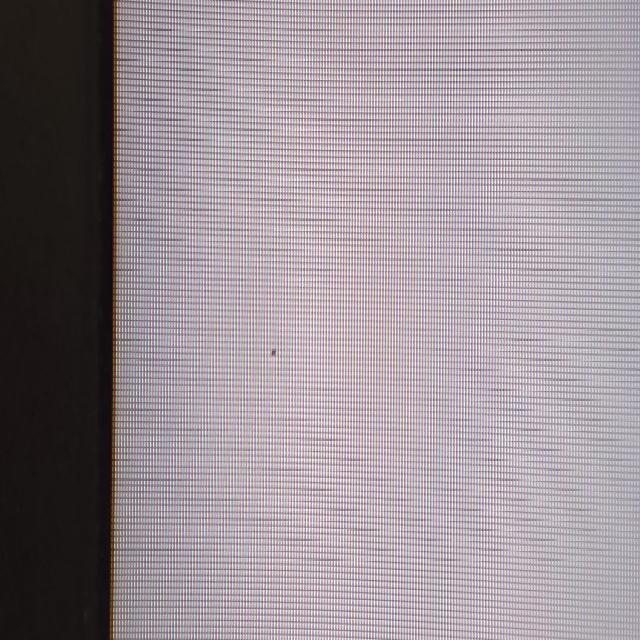Dead pixel: (272, 347, 276, 358)
